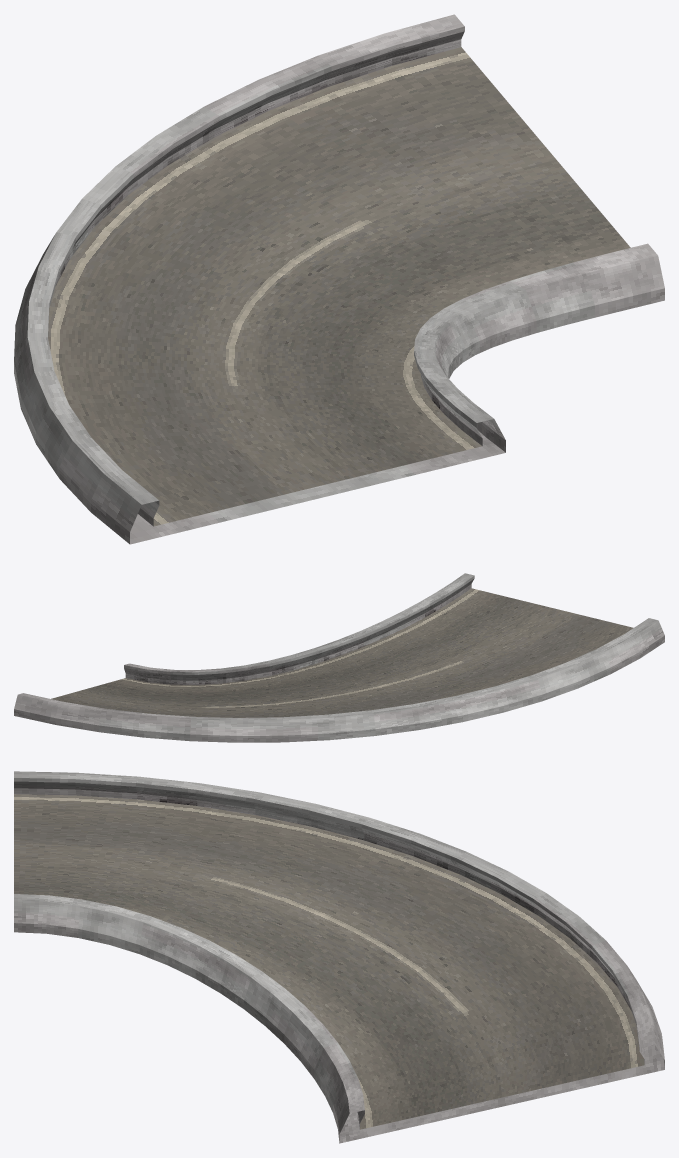
File: turn-right2x2.glb
3 renders of one model, top to bottom at view 1: azimuth 30°, elevation 25°; view 2: azimuth 150°, elevation 25°; view 3: azimuth 270°, elevation 25°, orthographic. The views are drawn at different scales.
Parts seen in each view (by area): view 1: road-Turn-Flat-HalfBankedRight-Down1-Right-Size2; view 2: road-Turn-Flat-HalfBankedRight-Down1-Right-Size2; view 3: road-Turn-Flat-HalfBankedRight-Down1-Right-Size2.
Boxes of the visible parts, x1,y1,x2,y2 form: road-Turn-Flat-HalfBankedRight-Down1-Right-Size2: [14, 14, 664, 544]; road-Turn-Flat-HalfBankedRight-Down1-Right-Size2: [14, 573, 664, 742]; road-Turn-Flat-HalfBankedRight-Down1-Right-Size2: [14, 771, 664, 1143].
Size of the model in its own units: 2 by 0.3438 by 2.
2 materials, 2 textured.
